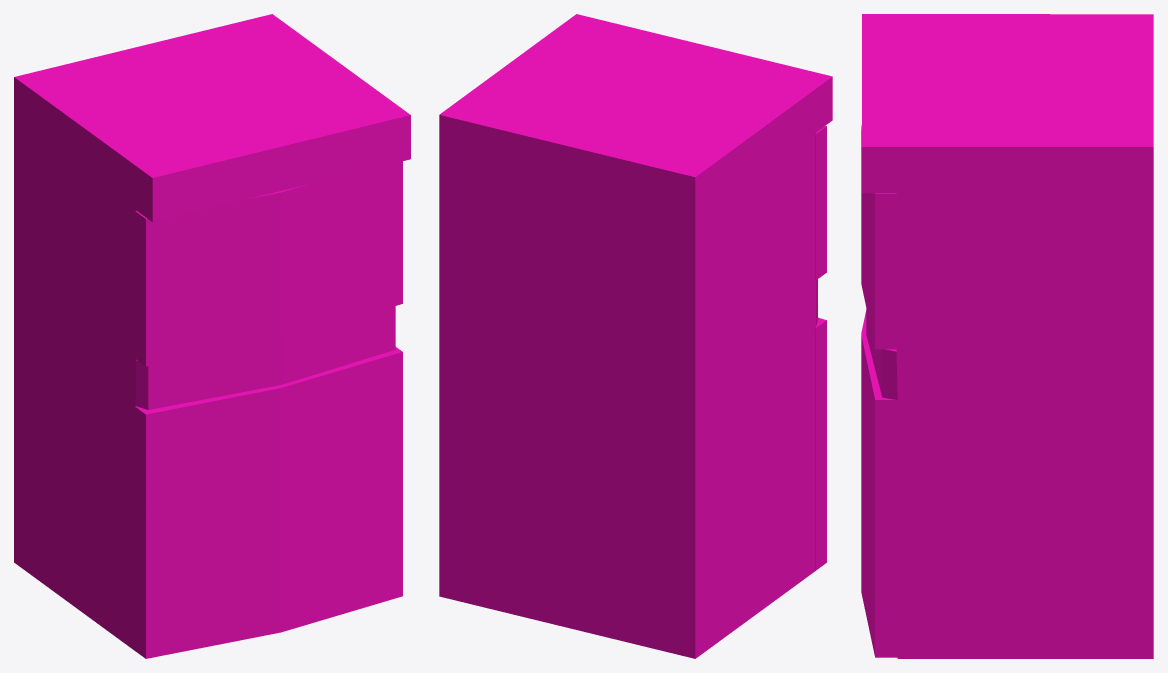
Rendered from housepack_fridge_1_meshCollider.fbx.
3 renders of one model, left to right at view 1: azimuth 30°, elevation 25°; view 2: azimuth 150°, elevation 25°; view 3: azimuth 270°, elevation 25°, orthographic. The views are drawn at different scales.
Visible parts, largest first — view 1: housepack_fridge_1_meshCollider, housepack_fridge_1_doorLower_meshCollider, housepack_fridge_1_doorUpper_meshCollider; view 2: housepack_fridge_1_meshCollider, housepack_fridge_1_doorLower_meshCollider, housepack_fridge_1_doorUpper_meshCollider; view 3: housepack_fridge_1_meshCollider, housepack_fridge_1_doorLower_meshCollider, housepack_fridge_1_doorUpper_meshCollider.
Boxes of the visible parts, x1,y1,x2,y2 form: housepack_fridge_1_meshCollider: (14, 14, 410, 650); housepack_fridge_1_doorLower_meshCollider: (134, 347, 402, 658); housepack_fridge_1_doorUpper_meshCollider: (134, 161, 402, 366); housepack_fridge_1_meshCollider: (439, 14, 832, 658); housepack_fridge_1_doorLower_meshCollider: (815, 317, 826, 570); housepack_fridge_1_doorUpper_meshCollider: (815, 126, 826, 280); housepack_fridge_1_meshCollider: (862, 14, 1153, 658); housepack_fridge_1_doorLower_meshCollider: (861, 310, 897, 657); housepack_fridge_1_doorUpper_meshCollider: (861, 125, 896, 349).
Size of the model in its own units: 62.59 by 112 by 58.18.
